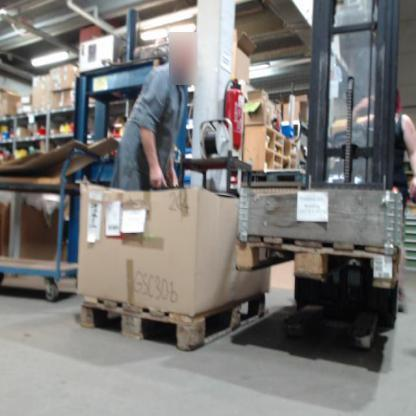pallet: (76, 291, 267, 353), (231, 233, 397, 292)
